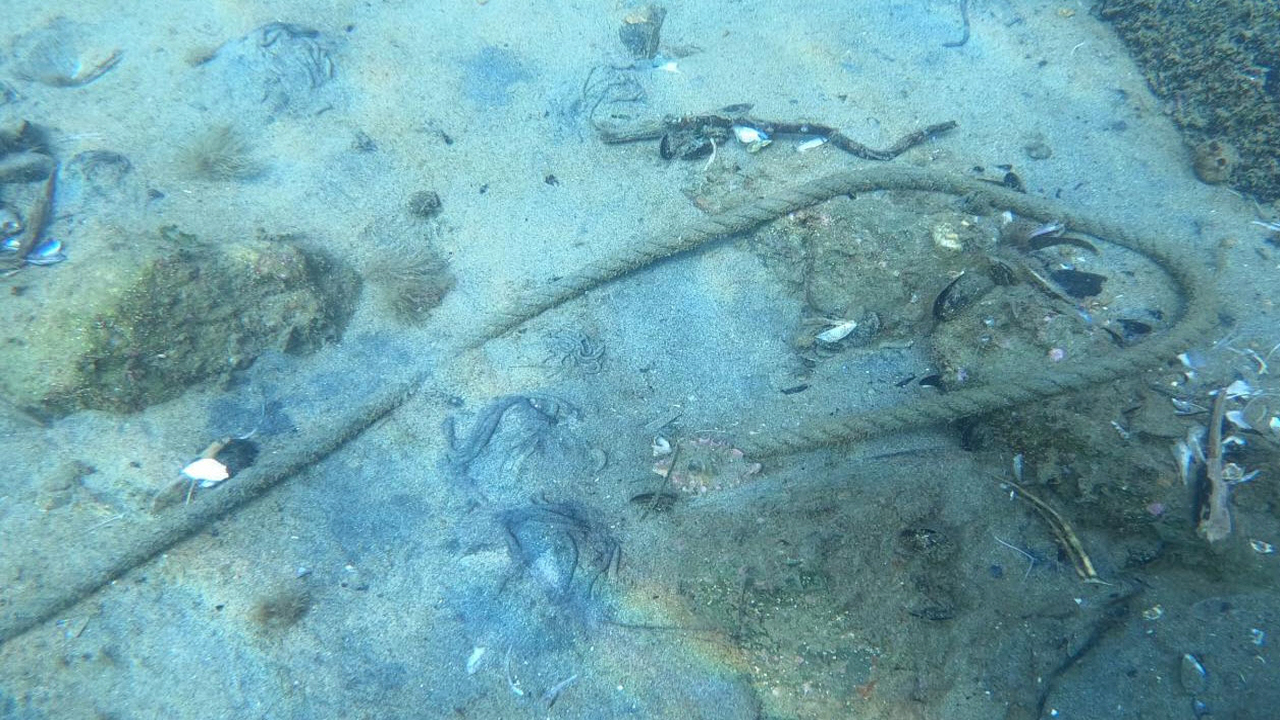rope: (0, 162, 1225, 643)
